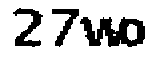2: (10, 6, 43, 50)
7: (47, 3, 82, 53)
o: (120, 15, 147, 47)
w: (76, 16, 120, 54)
